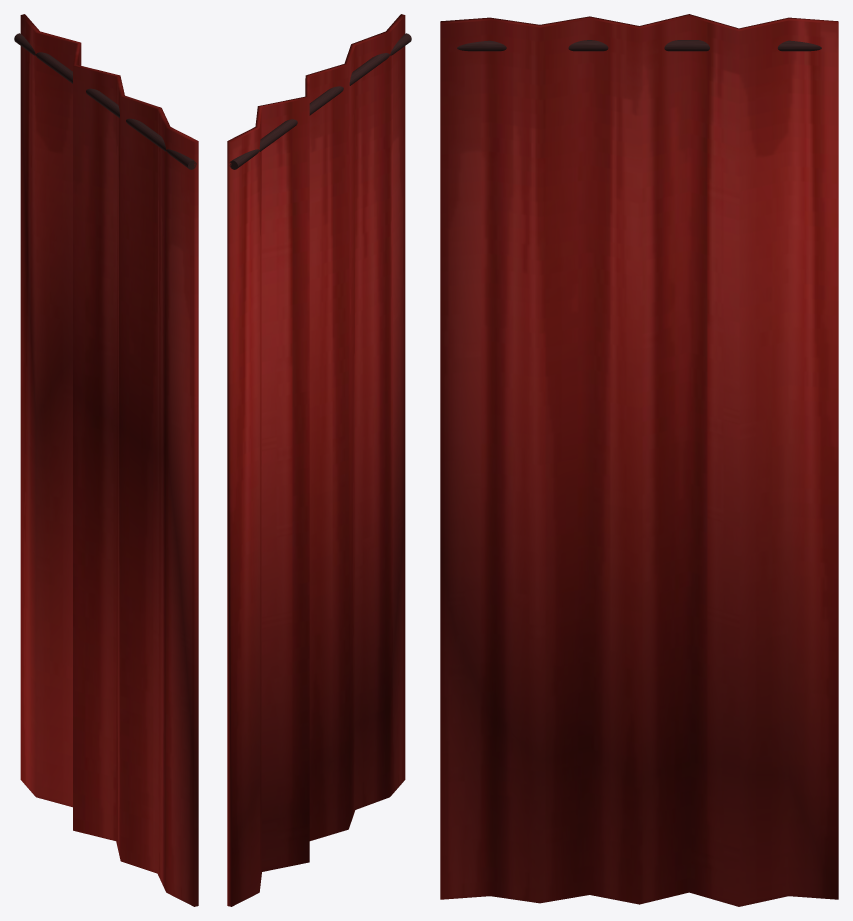
The model's file is curtain_m1.fbx.
3 renders of one model, left to right at view 1: azimuth 30°, elevation 25°; view 2: azimuth 150°, elevation 25°; view 3: azimuth 270°, elevation 25°, orthographic. The views are drawn at different scales.
Parts seen in each view (by area): view 1: Curtain; view 2: Curtain; view 3: Curtain.
Part boxes in pixels (<box>): Curtain: <box>14,14,198,906</box>; Curtain: <box>227,14,411,906</box>; Curtain: <box>440,14,838,906</box>.
Size of the model in its own units: 1.4 by 0.14 by 3.4.
